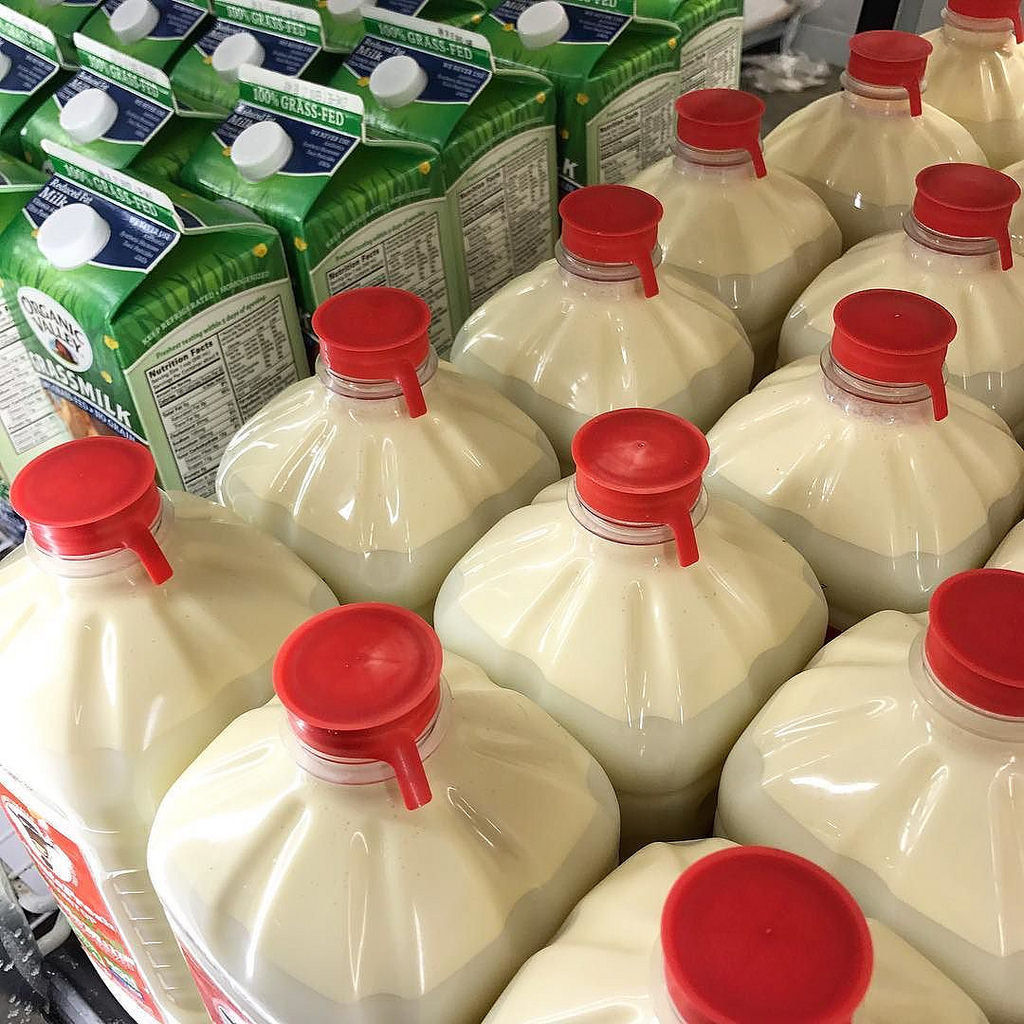glass of milk: (247, 417, 999, 963)
